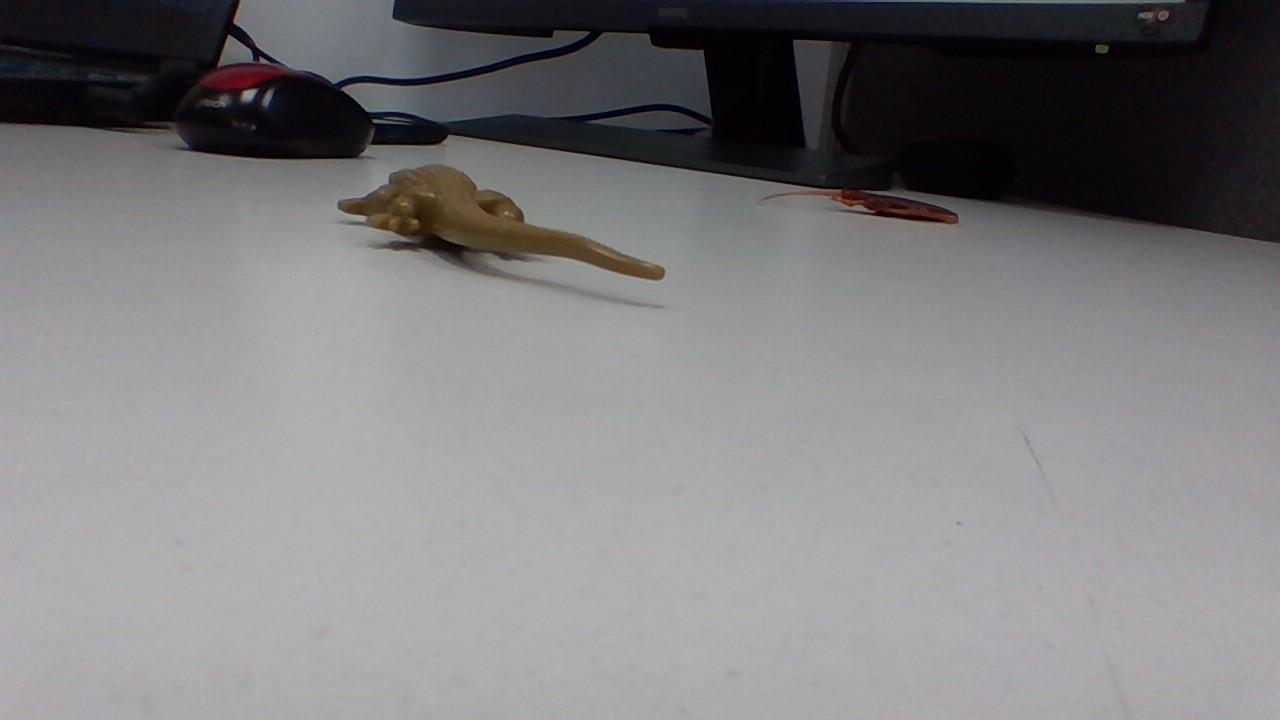lizard: (333, 150, 669, 283)
